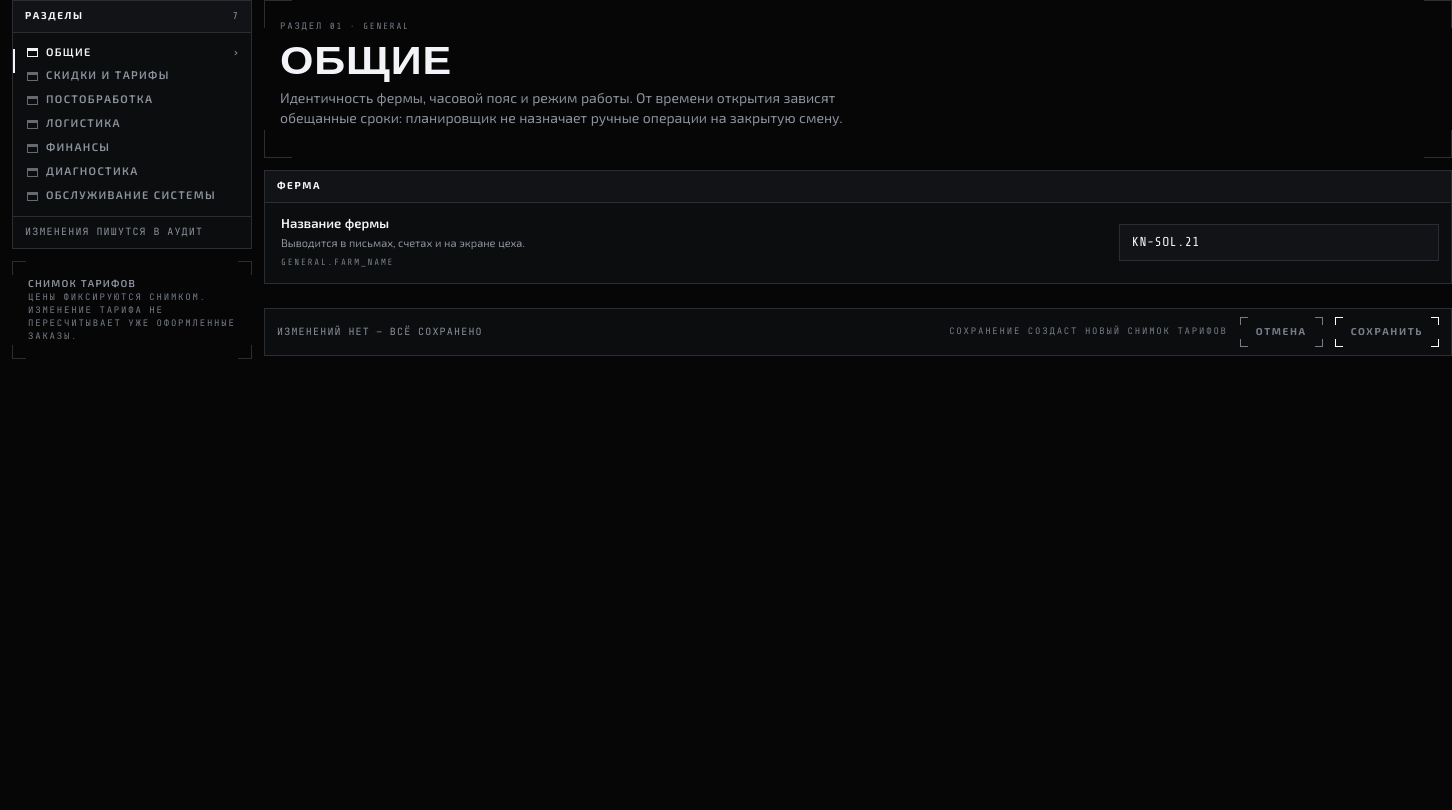
Scenario: the save bar › refuses an emptied number box rather than saving it as zero
This screenshot has width=1452, height=810.
Expected: the field named "Название фермы" is shown, [1119,224,1439,261]
Click the tab "Обслуживание системы" at x=132, y=196, box [13,184,251,208]
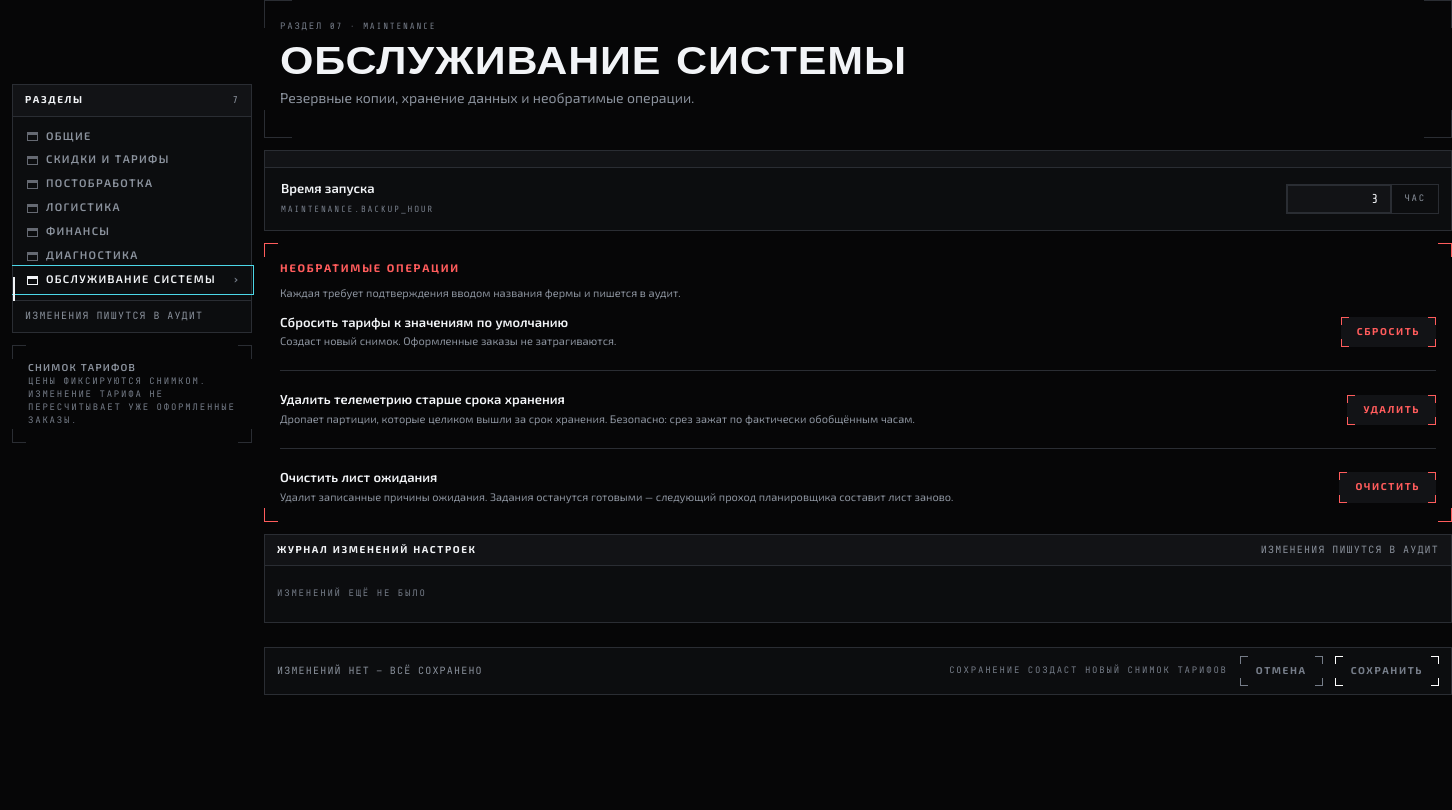
Clear the number field named "Время запуска" at x=1339, y=199, box [1287,185,1391,213]
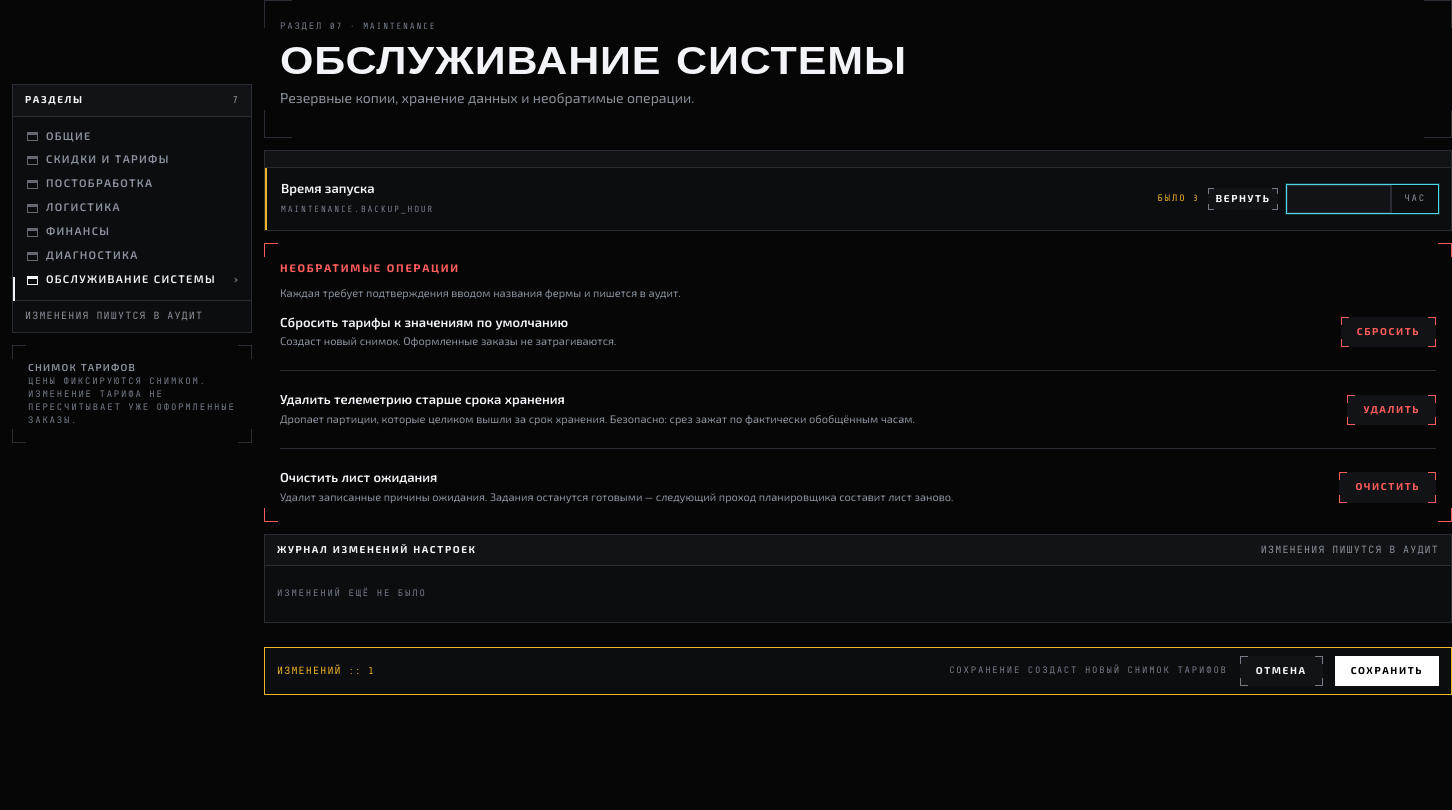
Click the button "Сохранить" at x=1387, y=671, box [1335,656,1439,686]
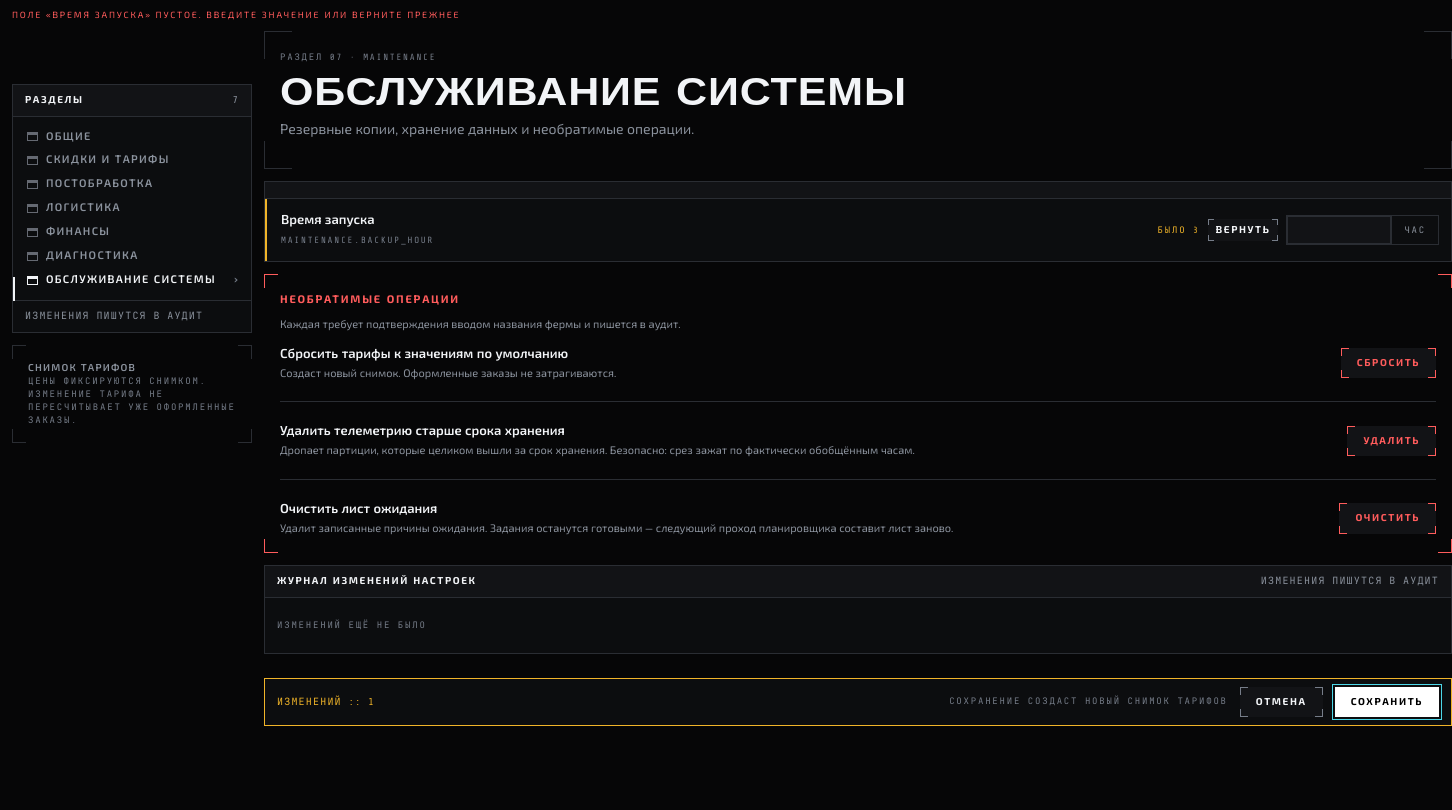
Result: the message reads "Поле «Время запуска» пустое. Введите значение или верните прежнее" at [12,9,460,21]
